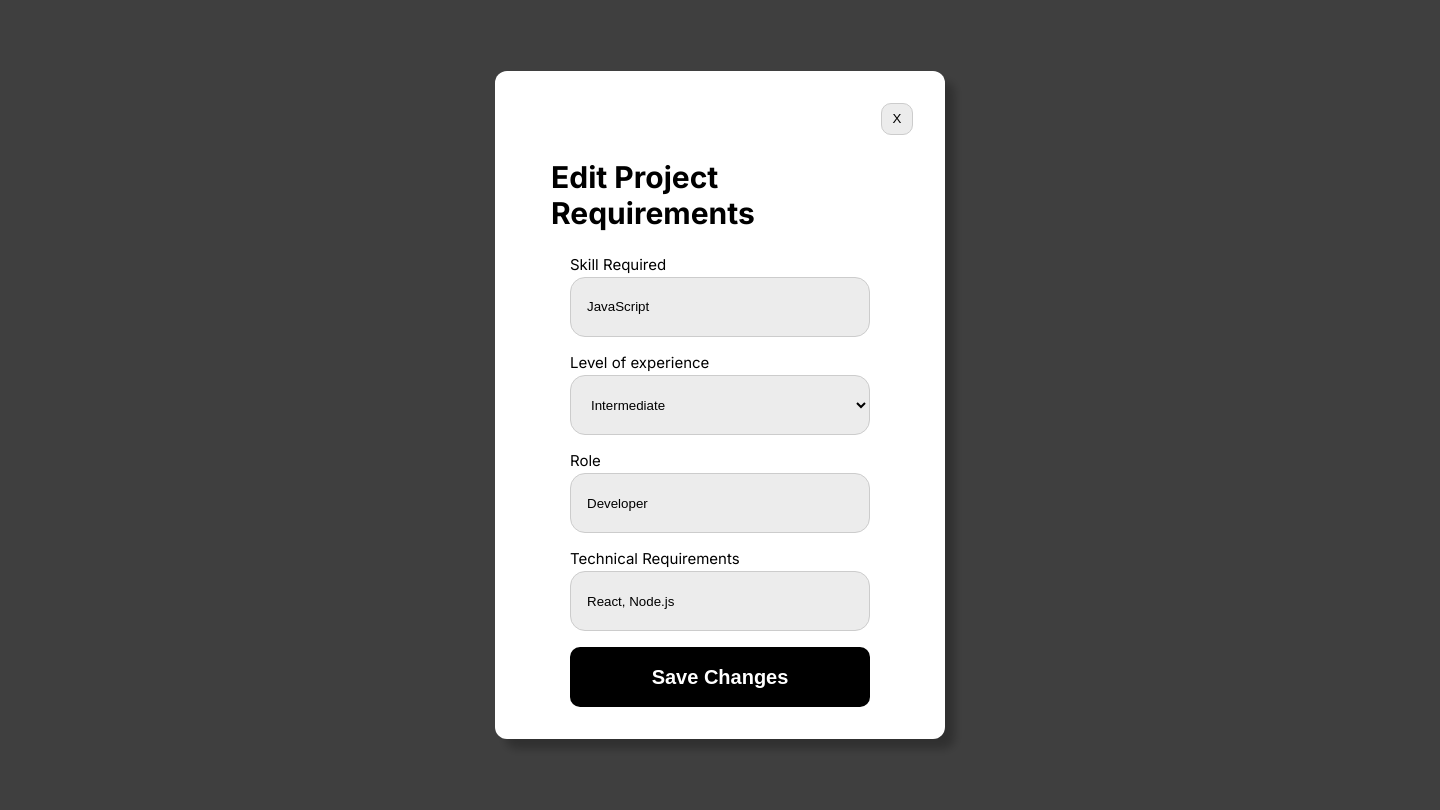
Scenario: EditReqForm › shows error if API returns error
This screenshot has width=1440, height=810.
What coordinates should you click on to do the following:
click the button "Save Changes"
I would click on:
 (720, 677)
Its box is [570,647,870,707].
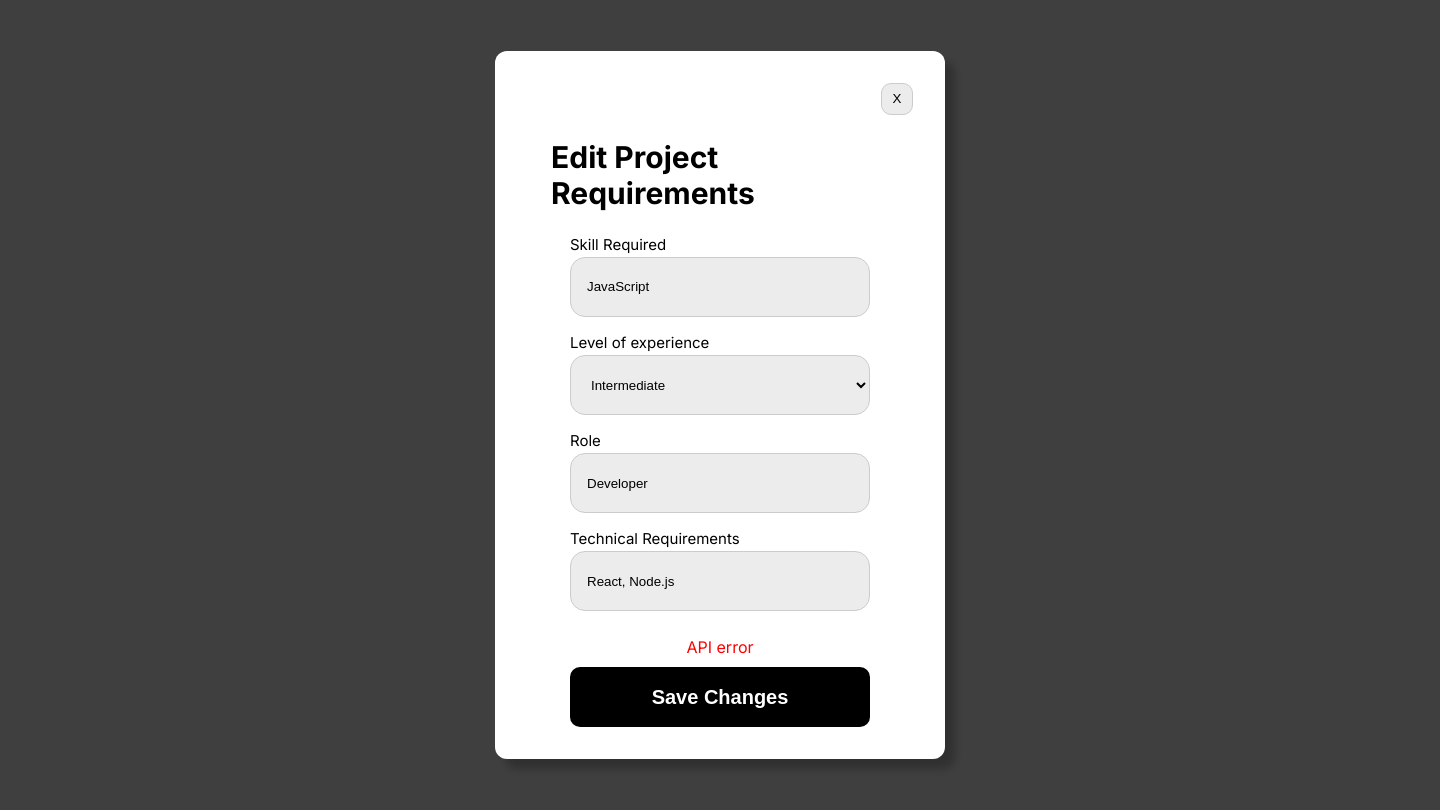
Result: the text "API error" is shown at [686,637,754,657]
